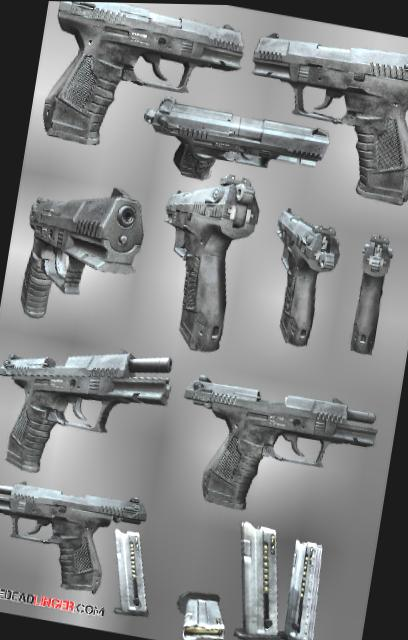pistol: (37, 1, 248, 167), (169, 371, 383, 531), (235, 18, 408, 208), (0, 329, 174, 492), (144, 163, 262, 357), (13, 170, 148, 335), (135, 93, 332, 198), (0, 470, 152, 602), (258, 200, 347, 349), (348, 230, 396, 355)
